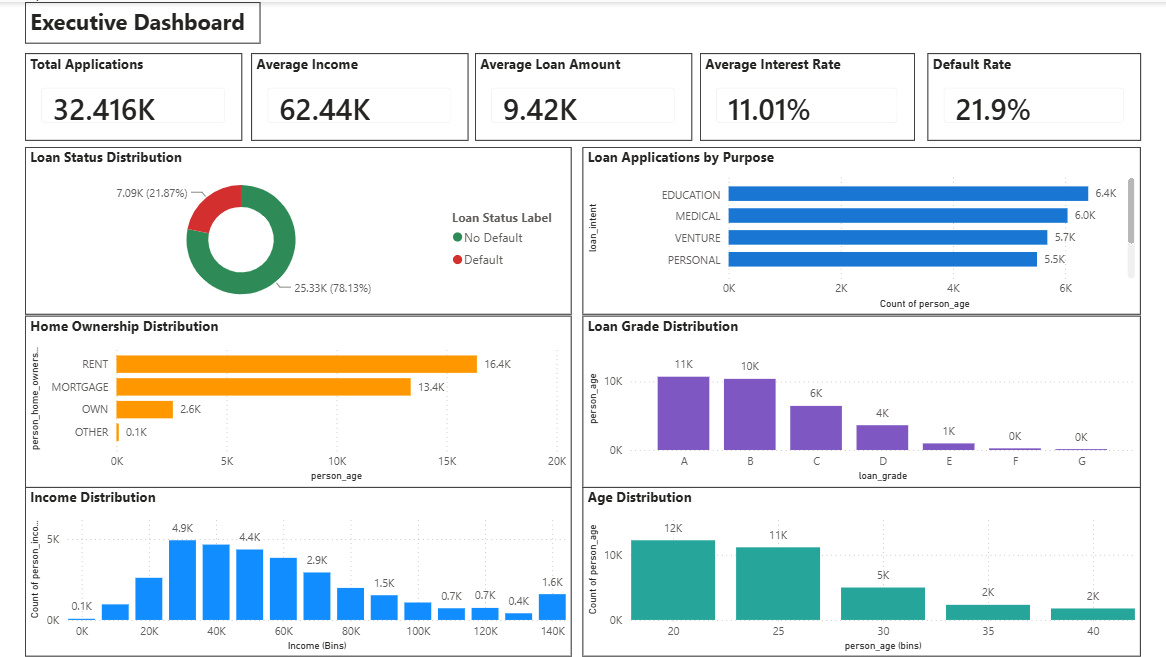

Layout of this report page (visuals, bound fields, positions):
{"tool":"powerbi","page":{"name":"Executive Dashboard","canvas":[1280,720],"ordinal":0},"visuals":[{"type":"cardVisual","title":"Total Applications","fields":{"Data":["CountNonNull(cleaned_credit_risk_dataset.person_age)"]},"box":[27.1,55.7,238.6,95.7],"z":0},{"type":"cardVisual","title":"Average Income","fields":{"Data":["Avg(cleaned_credit_risk_dataset.person_income)"]},"box":[275.7,55.7,238.6,95.7],"z":1000},{"type":"cardVisual","title":"Average Loan Amount","fields":{"Data":["Avg(cleaned_credit_risk_dataset.loan_amnt)"]},"box":[521.4,55.7,238.6,95.7],"z":2000},{"type":"cardVisual","title":"Average Interest Rate","fields":{"Data":["cleaned_credit_risk_dataset.Average Interest Rate"]},"box":[768.6,55.7,235.7,95.7],"z":3000},{"type":"cardVisual","title":"Default Rate","fields":{"Data":["cleaned_credit_risk_dataset.Default Rate %"]},"box":[1018.6,55.7,234.3,95.7],"z":4000},{"type":"donutChart","title":"Loan Status Distribution","fields":{"Y":["CountNonNull(cleaned_credit_risk_dataset.loan_status)"],"Category":["cleaned_credit_risk_dataset.Loan Status Label"]},"box":[27.1,158.6,600,184.3],"z":5000},{"type":"clusteredBarChart","title":"Home Ownership Distribution","fields":{"Category":["cleaned_credit_risk_dataset.person_home_ownership"],"Y":["CountNonNull(cleaned_credit_risk_dataset.person_age)"]},"box":[27.1,344.3,600,188.6],"z":6000},{"type":"clusteredColumnChart","title":"Loan Grade Distribution","fields":{"Category":["cleaned_credit_risk_dataset.loan_grade"],"Y":["CountNonNull(cleaned_credit_risk_dataset.person_age)"]},"box":[640,344.3,612.9,188.6],"z":7000},{"type":"clusteredColumnChart","title":"Income Distribution","fields":{"Category":["cleaned_credit_risk_dataset.person_income (bins)"],"Y":["CountNonNull(cleaned_credit_risk_dataset.person_income)"]},"box":[27.1,532.9,600,187.1],"z":8000},{"type":"clusteredColumnChart","title":"Age Distribution","fields":{"Category":["cleaned_credit_risk_dataset.person_age (bins)"],"Y":["CountNonNull(cleaned_credit_risk_dataset.person_age)"]},"box":[640,532.9,612.9,187.1],"z":9000},{"type":"clusteredBarChart","title":"Loan Applications by Purpose","fields":{"Category":["cleaned_credit_risk_dataset.loan_intent"],"Y":["CountNonNull(cleaned_credit_risk_dataset.person_age)"]},"box":[640,158.6,612.9,184.3],"z":10000},{"type":"textbox","box":[27.1,0,258.6,45.7],"z":11000}]}

Visuals, with their boxes in screenshot pixels (x1, y1, x2, y2), scaled from the page's 1280x720 canvas onto the 1166x657 screenshot:
"Total Applications" cardVisual: bbox=(25, 51, 242, 138)
"Average Income" cardVisual: bbox=(251, 51, 468, 138)
"Average Loan Amount" cardVisual: bbox=(475, 51, 692, 138)
"Average Interest Rate" cardVisual: bbox=(700, 51, 915, 138)
"Default Rate" cardVisual: bbox=(928, 51, 1141, 138)
"Loan Status Distribution" donutChart: bbox=(25, 145, 571, 313)
"Home Ownership Distribution" clusteredBarChart: bbox=(25, 314, 571, 486)
"Loan Grade Distribution" clusteredColumnChart: bbox=(583, 314, 1141, 486)
"Income Distribution" clusteredColumnChart: bbox=(25, 486, 571, 656)
"Age Distribution" clusteredColumnChart: bbox=(583, 486, 1141, 656)
"Loan Applications by Purpose" clusteredBarChart: bbox=(583, 145, 1141, 313)
textbox: bbox=(25, 0, 260, 42)
